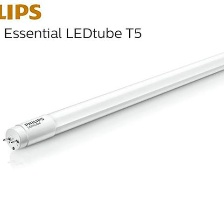light_bulb: (0, 47, 224, 153)
